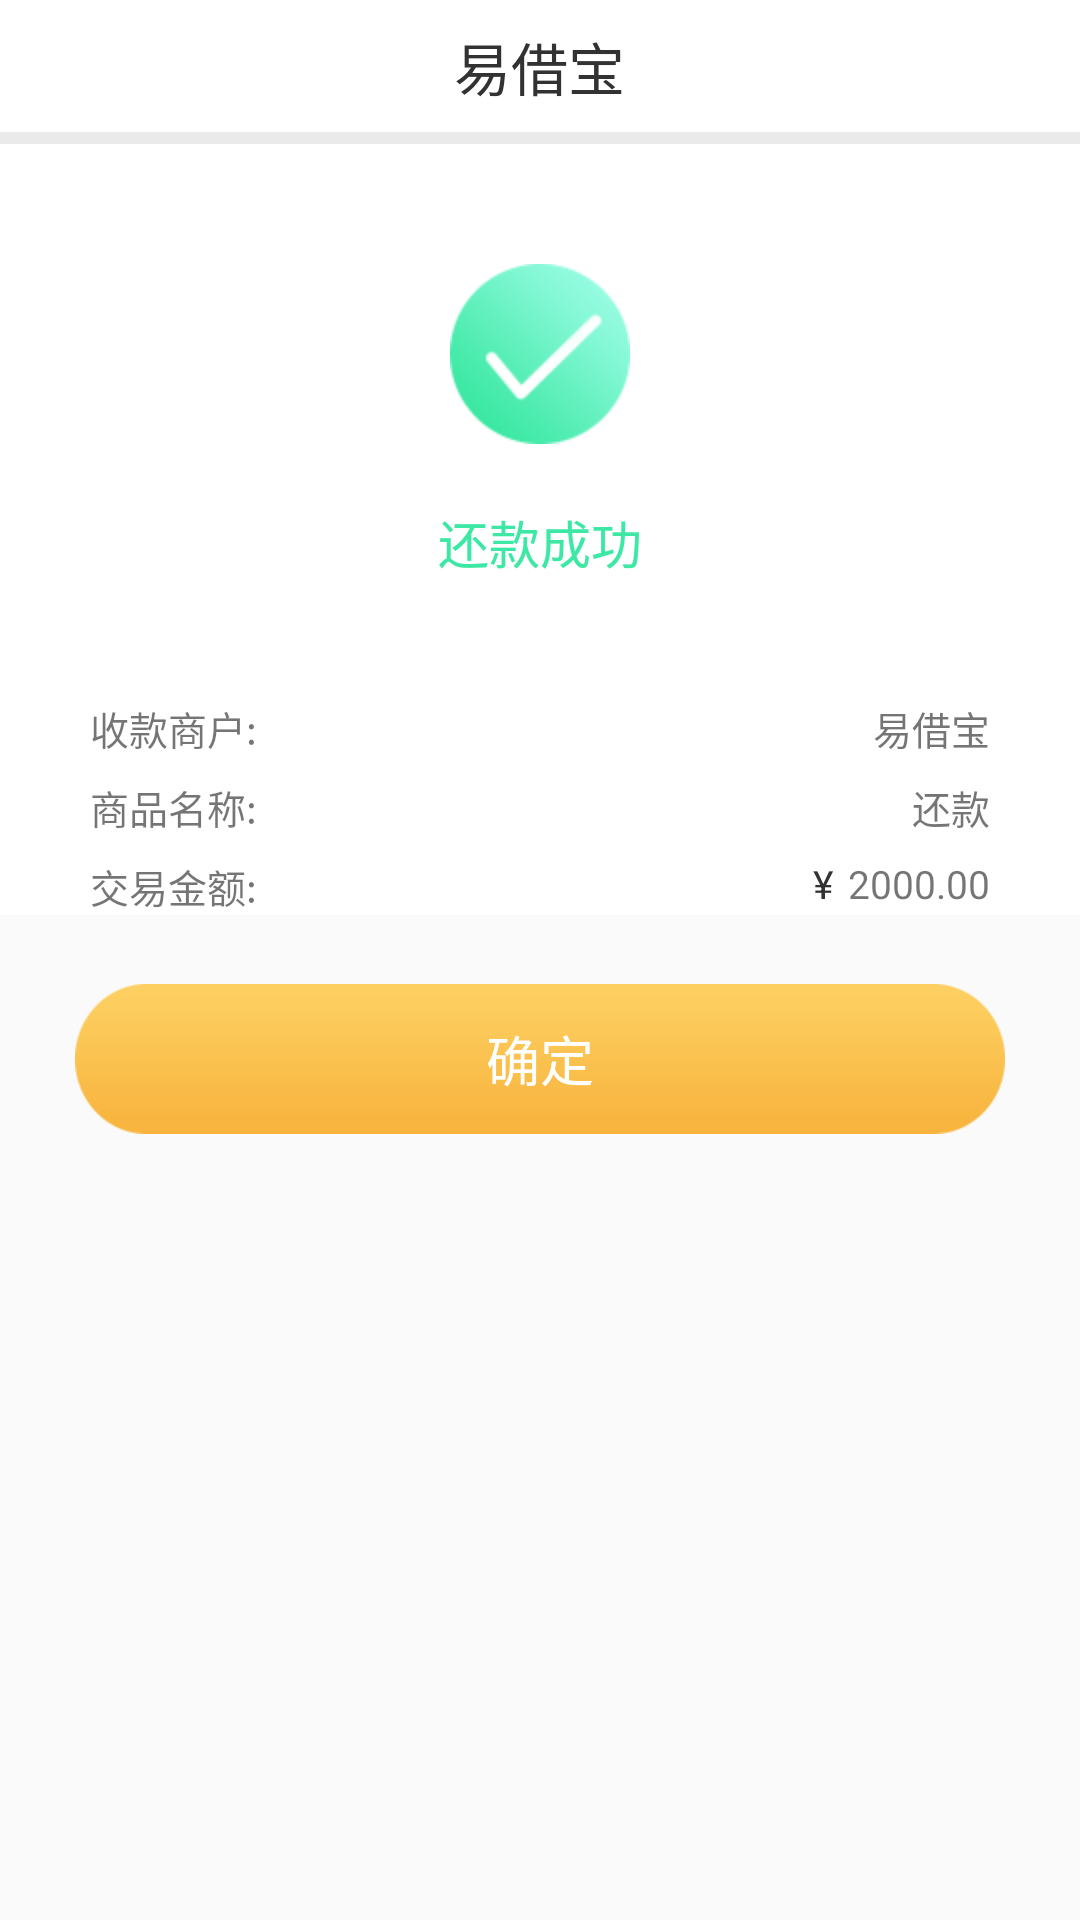

Named icons in this screenshot (1080px×1920px) and their bounding boxes, [x1,y1,x2,y2]:
applysuccess item: [450,264,630,444]
